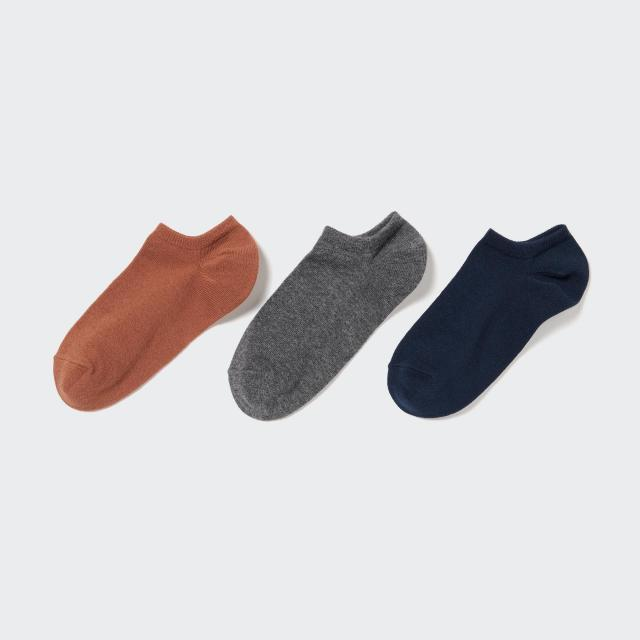sock: (227, 210, 428, 421), (52, 214, 260, 412), (387, 222, 590, 418)
